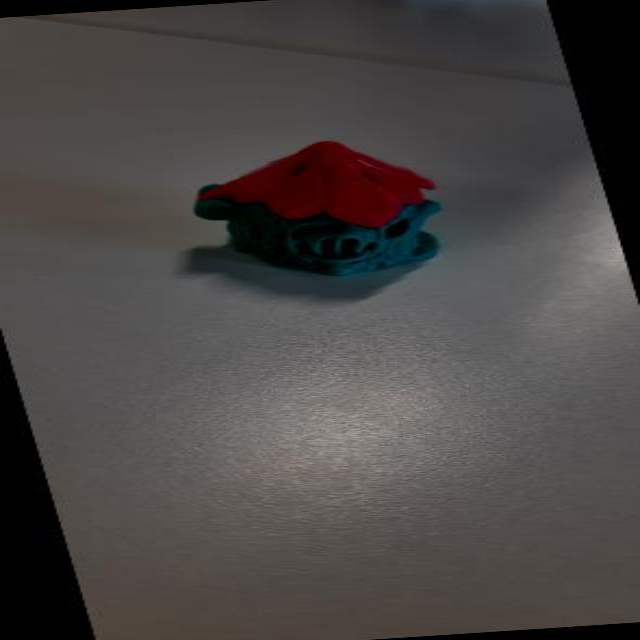House: (120, 125, 478, 319)
